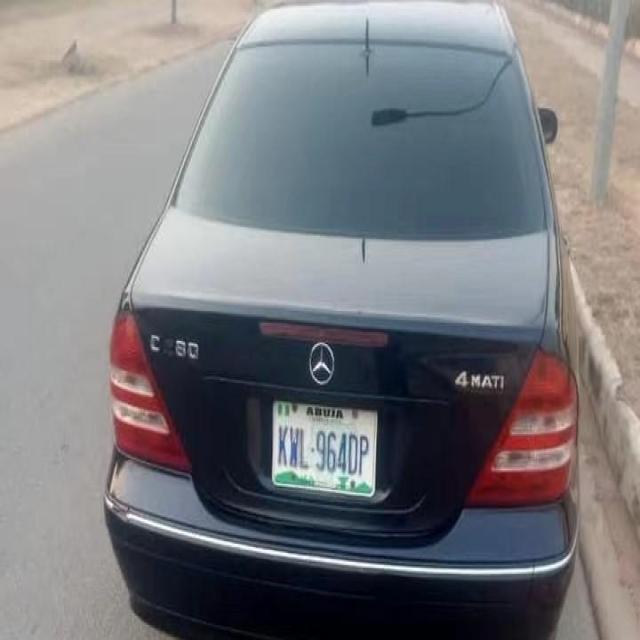Nigerian License Plate - vdataset benjamin-daria: (271, 400, 376, 491)
